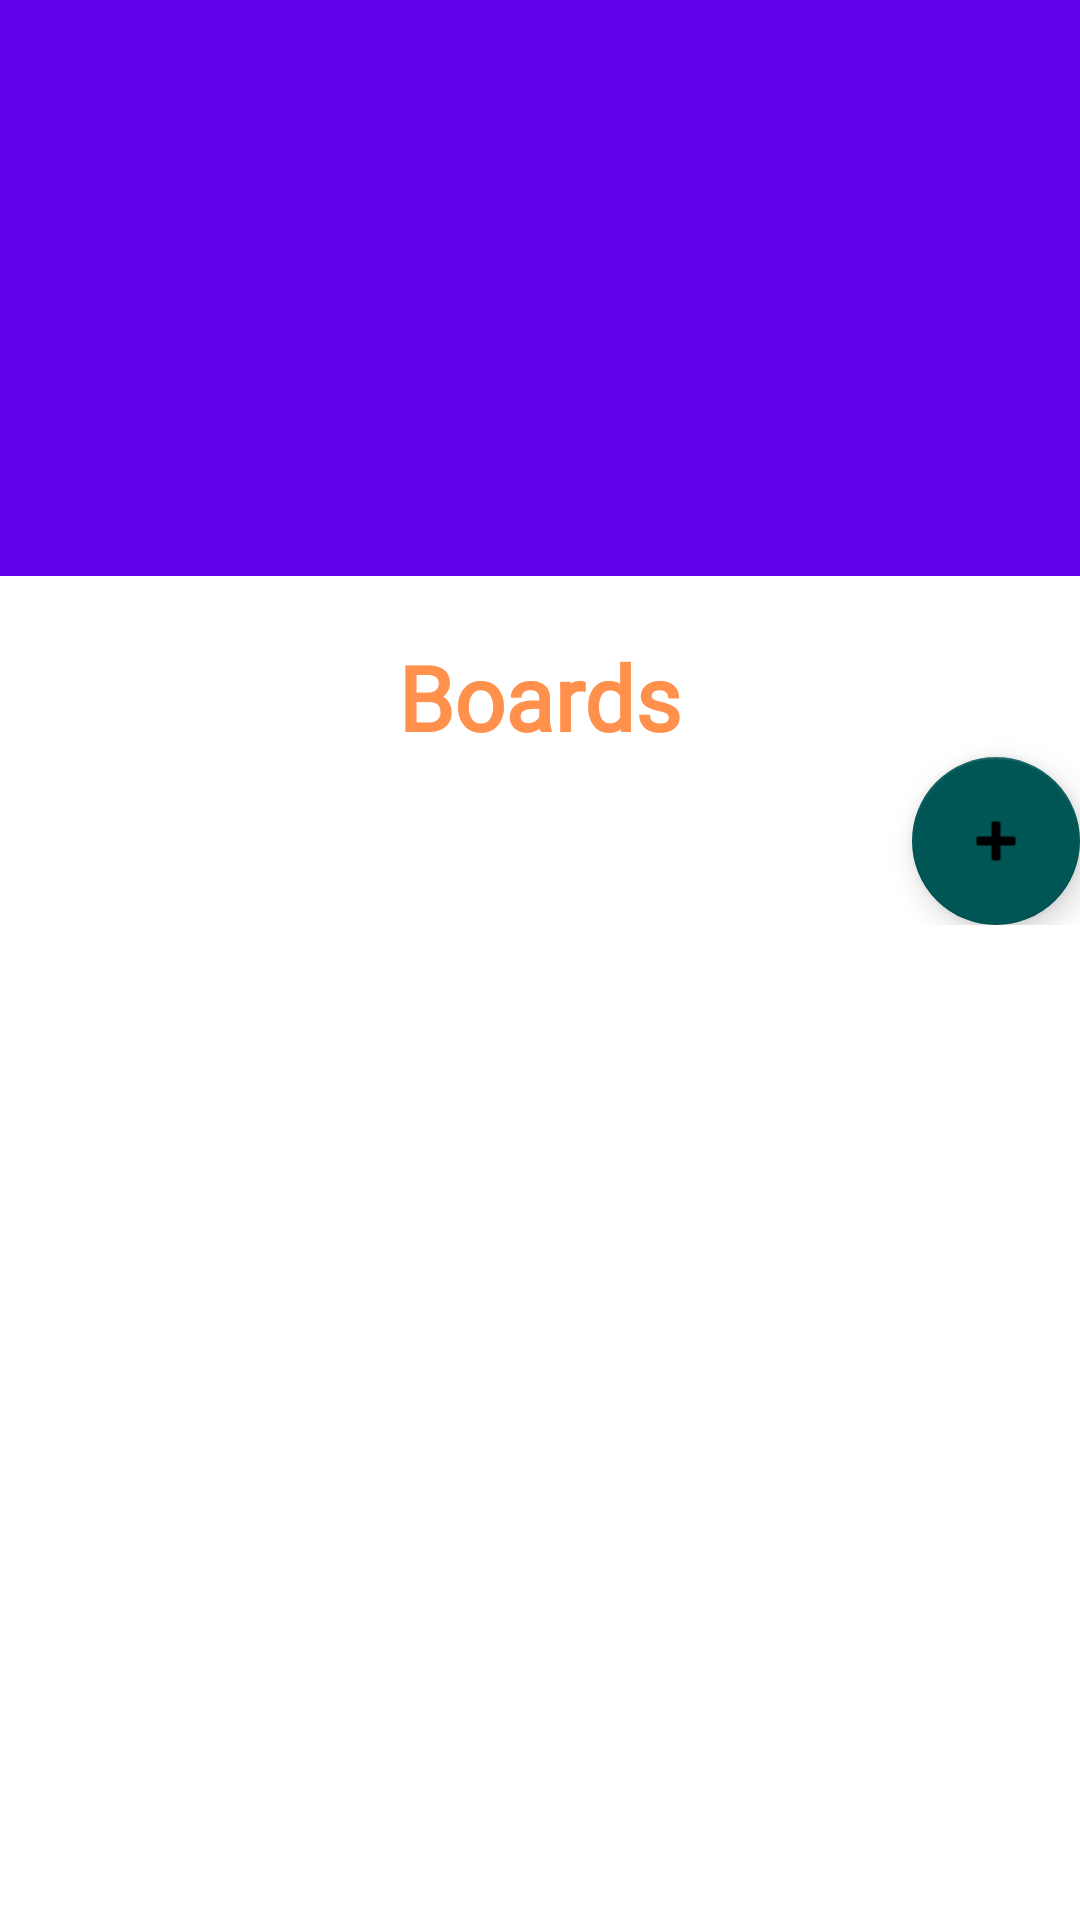

Icons on this 1080w x 1920h Android screen, each with its box as [left=x1, top=y1, right=x2, bottom=y2]:
add: [left=912, top=757, right=1080, bottom=925]
